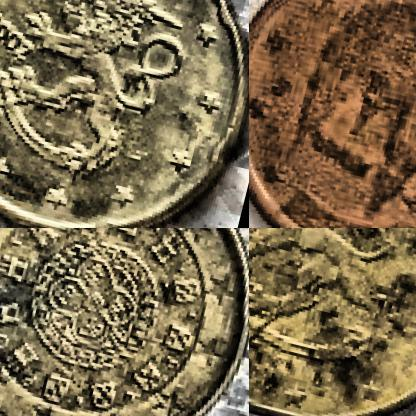coin: (0, 0, 248, 227), (0, 228, 248, 415), (249, 0, 415, 227), (249, 228, 415, 415)
